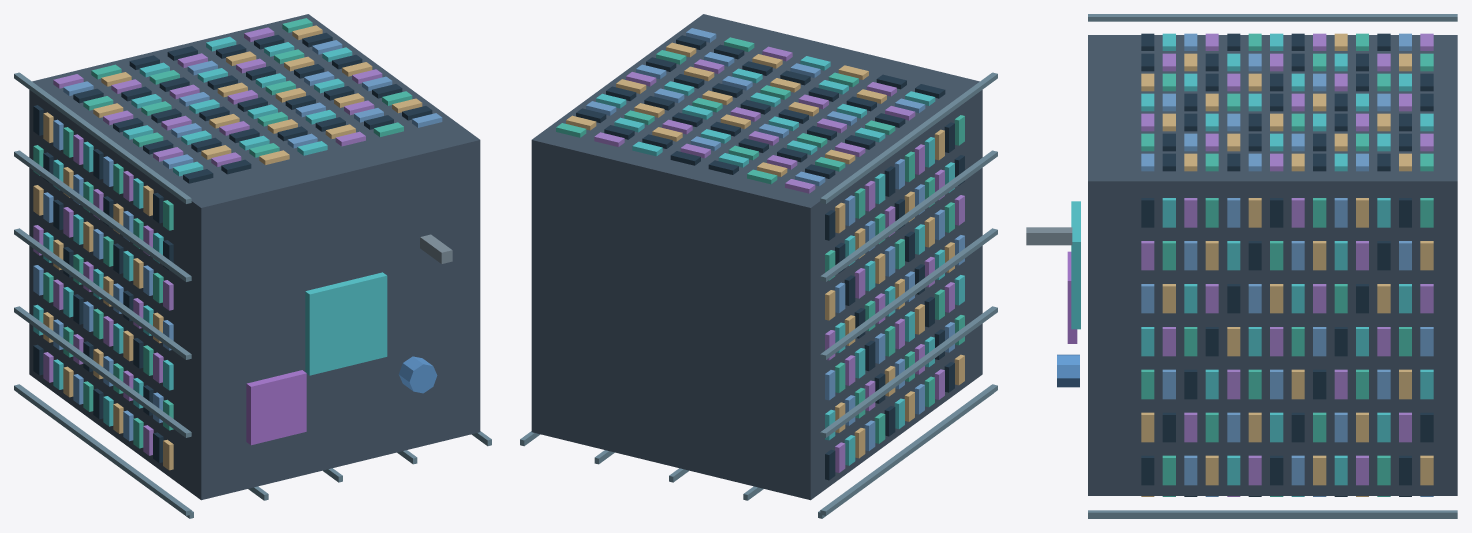
The model's file is tower.glb.
3 renders of one model, left to right at view 1: azimuth 30°, elevation 25°; view 2: azimuth 150°, elevation 25°; view 3: azimuth 270°, elevation 25°, orthographic. The views are drawn at different scales.
Parts seen in each view (by area): view 1: geometry_0; view 2: geometry_0; view 3: geometry_0.
Boxes of the visible parts, x1,y1,x2,y2 form: geometry_0: (14, 14, 491, 518); geometry_0: (520, 14, 997, 518); geometry_0: (1026, 14, 1457, 518).
Size of the model in its own units: 0.986 by 0.996 by 1.12.
